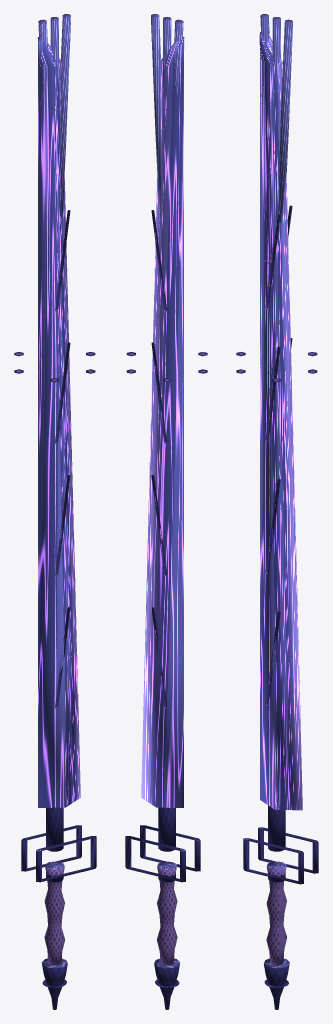
File: sword_09_spellweaver_prism.glb
3 renders of one model, left to right at view 1: azimuth 30°, elevation 25°; view 2: azimuth 150°, elevation 25°; view 3: azimuth 330°, elevation 25°, orthographic.
Parts seen in each view (by area): view 1: Blade_PrismCrystal, Prongs_PrismSplit, Grip_PrismWrap, Guard_SpellbookFrame, Facet_RuneLattice, Pommel_PrismShard, Core_ArcanePrism; view 2: Blade_PrismCrystal, Prongs_PrismSplit, Grip_PrismWrap, Guard_SpellbookFrame, Facet_RuneLattice, Pommel_PrismShard, Core_ArcanePrism; view 3: Blade_PrismCrystal, Prongs_PrismSplit, Grip_PrismWrap, Facet_RuneLattice, Guard_SpellbookFrame, Pommel_PrismShard, Core_ArcanePrism.
Boxes of the visible parts, left/top/right/bottom form: Blade_PrismCrystal: left=37, top=37, right=80, bottom=807; Prongs_PrismSplit: left=38, top=14, right=70, bottom=220; Grip_PrismWrap: left=44, top=861, right=64, bottom=965; Guard_SpellbookFrame: left=21, top=825, right=96, bottom=882; Facet_RuneLattice: left=55, top=210, right=70, bottom=708; Pommel_PrismShard: left=41, top=958, right=67, bottom=1009; Core_ArcanePrism: left=46, top=807, right=63, bottom=851; Blade_PrismCrystal: left=141, top=37, right=184, bottom=807; Prongs_PrismSplit: left=151, top=14, right=183, bottom=220; Grip_PrismWrap: left=157, top=861, right=177, bottom=965; Guard_SpellbookFrame: left=125, top=825, right=200, bottom=882; Facet_RuneLattice: left=151, top=210, right=166, bottom=708; Pommel_PrismShard: left=154, top=958, right=180, bottom=1009; Core_ArcanePrism: left=158, top=807, right=175, bottom=851; Blade_PrismCrystal: left=259, top=32, right=302, bottom=810; Prongs_PrismSplit: left=260, top=14, right=292, bottom=224; Grip_PrismWrap: left=266, top=861, right=286, bottom=965; Facet_RuneLattice: left=265, top=205, right=292, bottom=706; Guard_SpellbookFrame: left=243, top=827, right=318, bottom=884; Pommel_PrismShard: left=263, top=958, right=289, bottom=1009; Core_ArcanePrism: left=268, top=805, right=285, bottom=851.
Size of the model in its own units: 0.2223 by 2.6 by 0.1925.
Materials: 1 (1 with a texture image).
